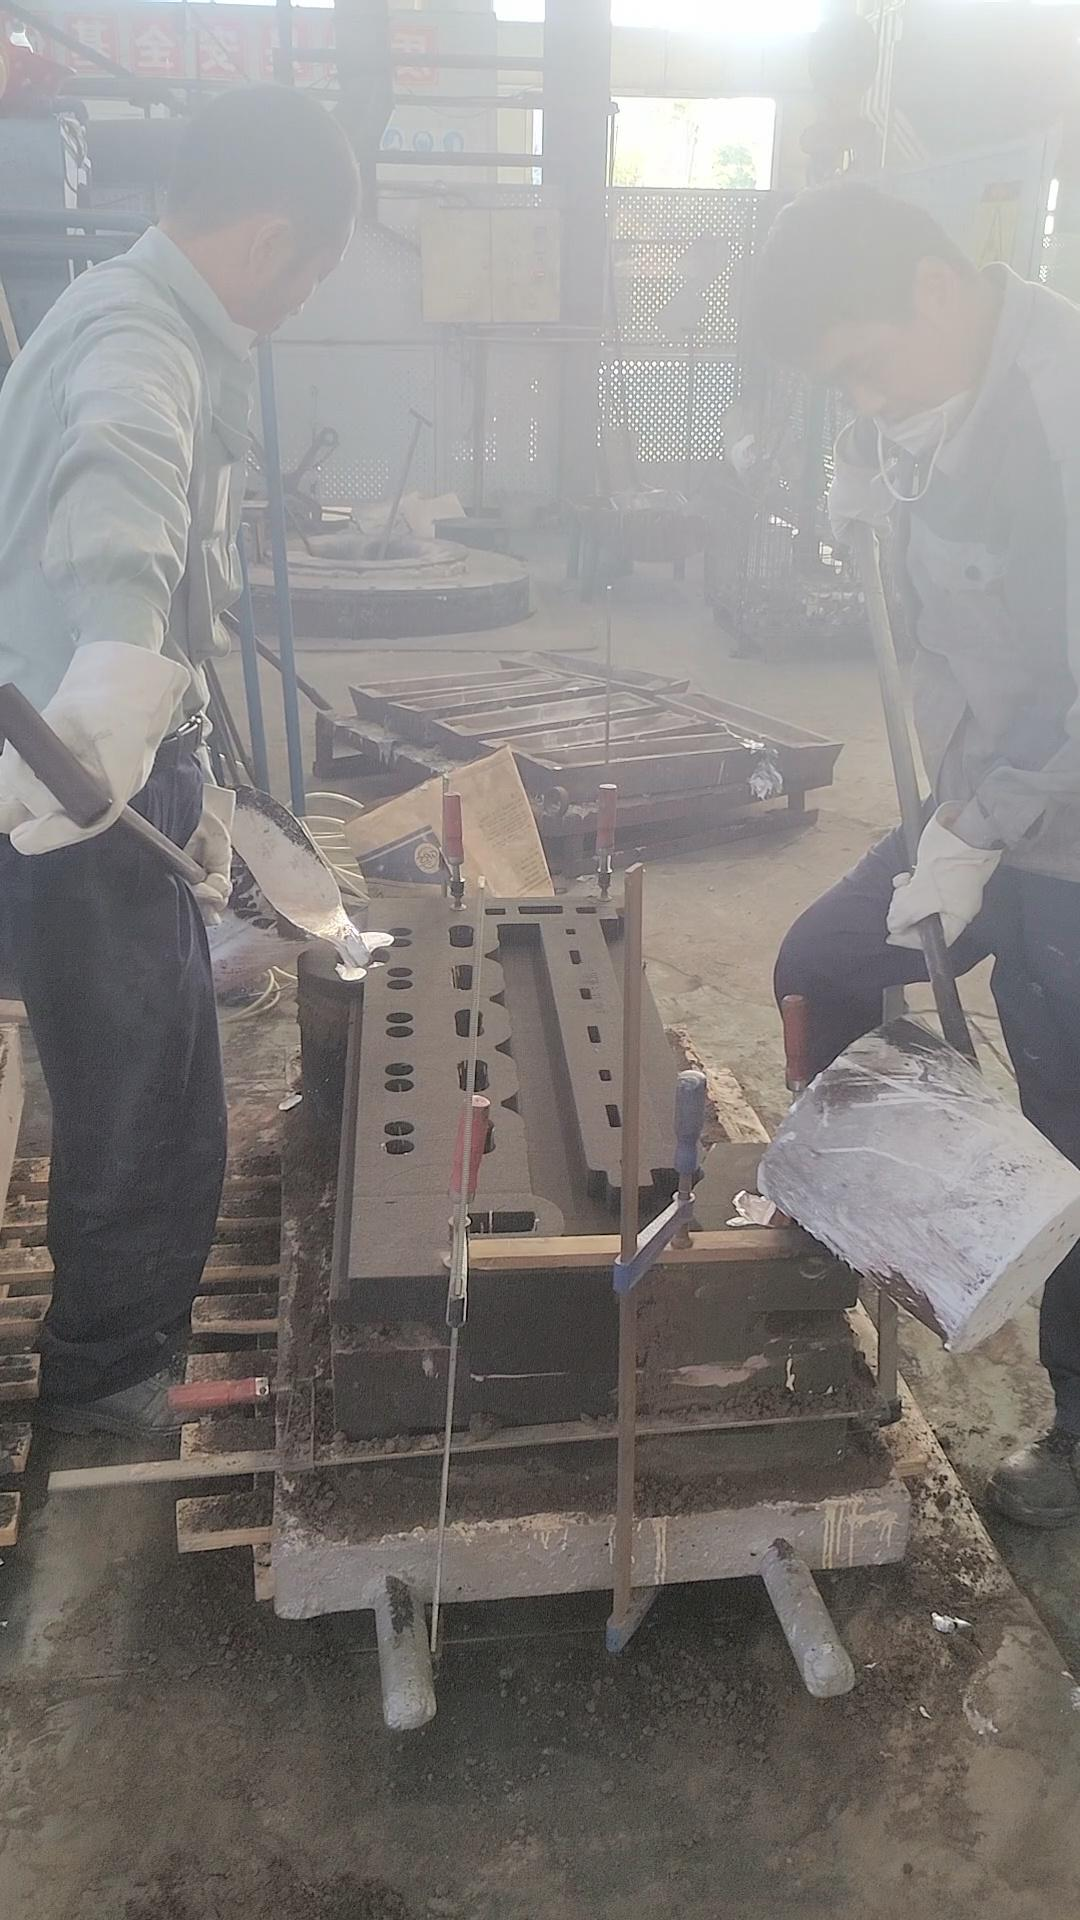pouring hole: (740, 1193, 803, 1233), (335, 945, 390, 972)
